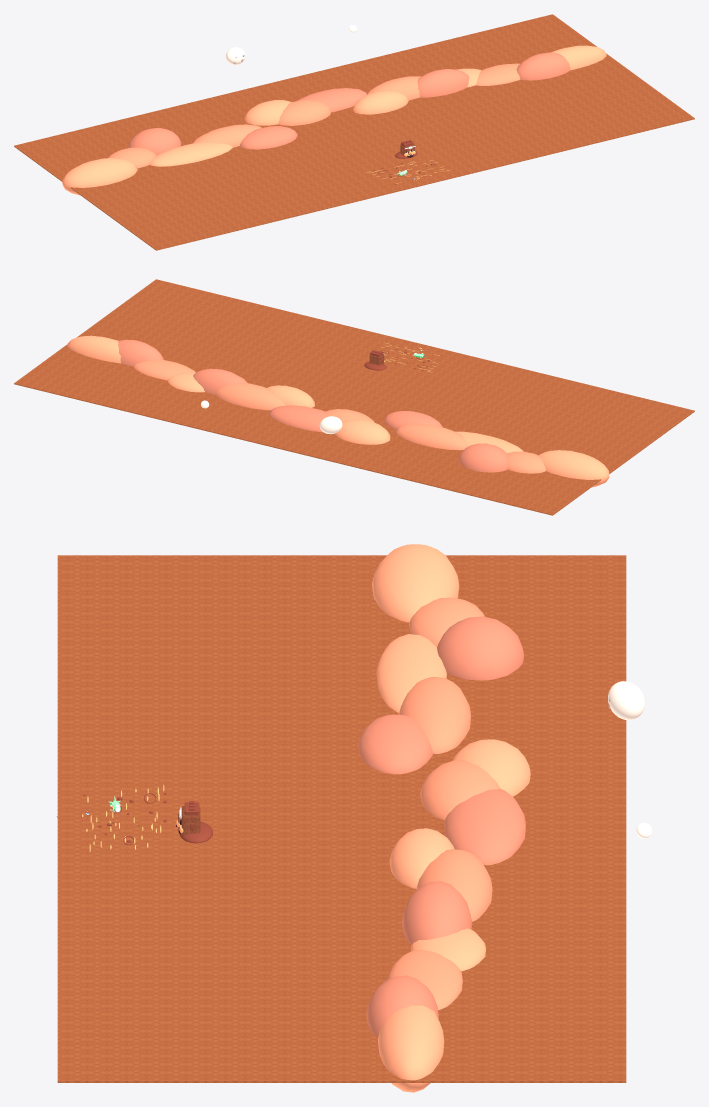
File: mars.glb
The picture shows the model from 3 angles, top to bottom: view 1: azimuth 30°, elevation 25°; view 2: azimuth 150°, elevation 25°; view 3: azimuth 270°, elevation 25°; orthographic projection. The views are drawn at different scales.
Parts seen in each view (by area): view 1: Boden.002, Berg0.003, Berg3.003, Berg11.002, Berg14.002, Berg7.002, Berg9.002, Berg5.002, Berg2.003, Berg8.002, Berg4.002, Berg6.002 (+4 smaller); view 2: Boden.002, Berg0.003, Berg4.002, Berg10.002, Berg2.003, Berg6.002, Berg8.002, Berg15.002, Berg14.002, Berg11.002, Berg13.002, Berg1.003 (+5 smaller); view 3: Boden.002, Berg0.003, Berg8.002, Berg2.003, Berg15.002, Berg4.002, Berg5.002, Berg3.003, Berg11.002, Berg7.002, Berg10.002, Berg6.002 (+6 smaller).
Boxes of the visible parts, box(x1,y1,x2,y2) form: Boden.002: box(14, 14, 694, 250); Berg0.003: box(62, 158, 137, 195); Berg3.003: box(150, 142, 232, 166); Berg11.002: box(417, 69, 469, 97); Berg14.002: box(516, 52, 570, 80); Berg7.002: box(278, 99, 331, 125); Berg9.002: box(353, 90, 408, 114); Berg5.002: box(240, 126, 297, 149); Berg2.003: box(128, 128, 181, 155); Berg8.002: box(297, 88, 366, 112); Berg4.002: box(192, 124, 261, 147); Berg6.002: box(244, 100, 291, 125); Boden.002: box(14, 279, 694, 515); Berg0.003: box(539, 450, 609, 487); Berg4.002: box(396, 423, 465, 450); Berg10.002: box(215, 382, 285, 410); Berg2.003: box(458, 443, 508, 472); Berg6.002: box(334, 419, 390, 444); Berg8.002: box(269, 405, 327, 432); Berg15.002: box(67, 335, 120, 363); Berg14.002: box(118, 339, 163, 366); Berg11.002: box(193, 368, 247, 394); Berg13.002: box(133, 359, 195, 380); Berg1.003: box(507, 451, 545, 473); Boden.002: box(57, 555, 626, 1082); Berg0.003: box(372, 544, 459, 622); Berg8.002: box(444, 789, 525, 865); Berg2.003: box(437, 616, 524, 680); Berg15.002: box(378, 1005, 444, 1092); Berg4.002: box(399, 677, 470, 753); Berg5.002: box(358, 714, 432, 774); Berg3.003: box(376, 634, 446, 713); Berg11.002: box(402, 881, 472, 944); Berg7.002: box(420, 760, 500, 820); Berg10.002: box(416, 849, 492, 921); Berg6.002: box(452, 739, 530, 796).
Size of the model in its own units: 704 by 76.6 by 335.
Materials: 40 (2 with a texture image).
